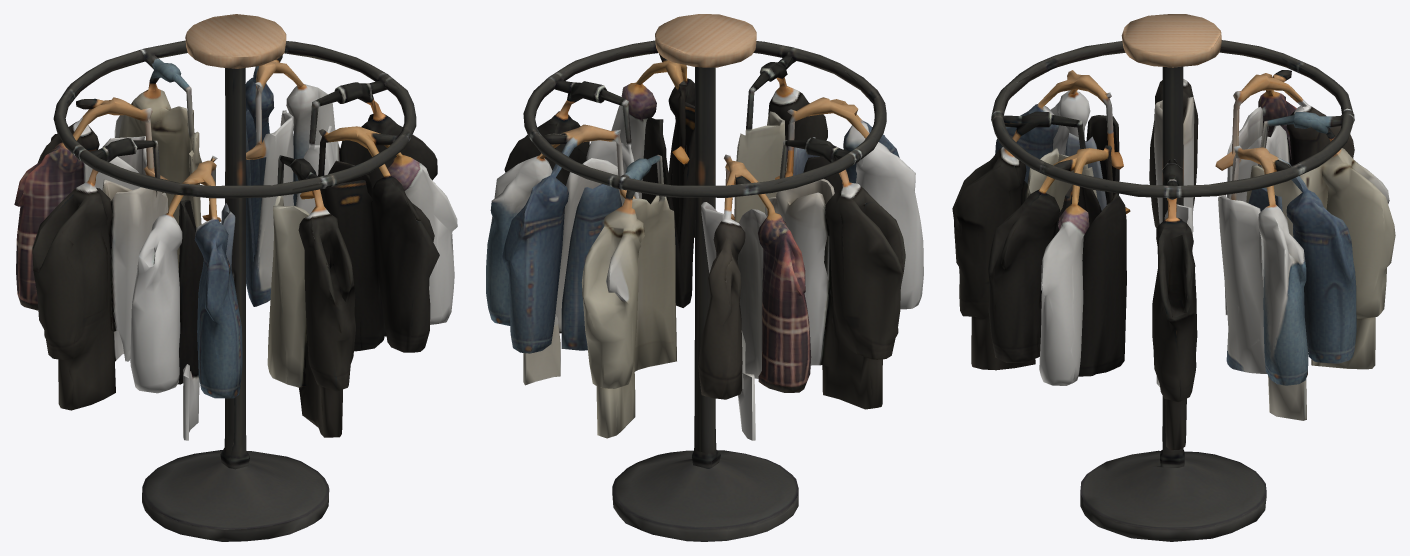
The model's file is ClothingRack.obj.
3 renders of one model, left to right at view 1: azimuth 30°, elevation 25°; view 2: azimuth 150°, elevation 25°; view 3: azimuth 270°, elevation 25°, orthographic.
Visible parts, largest first — view 1: Bodygeom1; view 2: Bodygeom1; view 3: Bodygeom1.
Part boxes in pixels (<box>): Bodygeom1: <box>14,14,457,541</box>; Bodygeom1: <box>486,14,923,541</box>; Bodygeom1: <box>952,14,1395,541</box>.
Size of the model in its own units: 8.92 by 10 by 8.56.
Materials: 1 (1 with a texture image).
